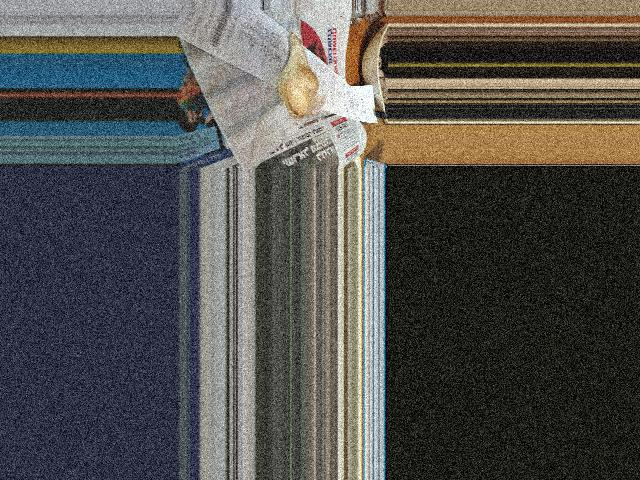onion: (269, 39, 321, 116)
